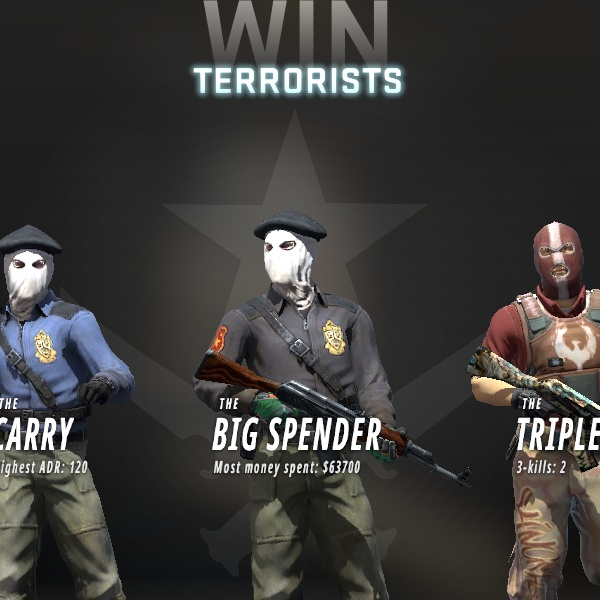t_body: (436, 199, 595, 600)
t_head: (508, 207, 600, 321)
